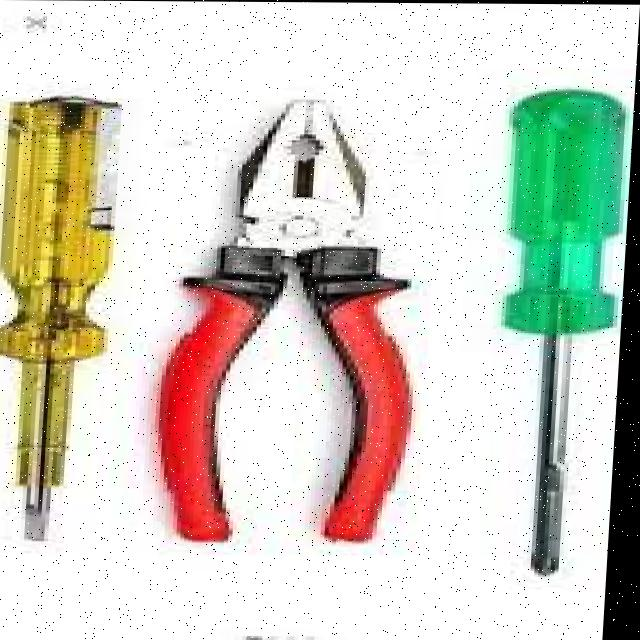Screwdriver: (167, 99, 411, 541), (509, 90, 627, 574), (0, 97, 121, 540)
